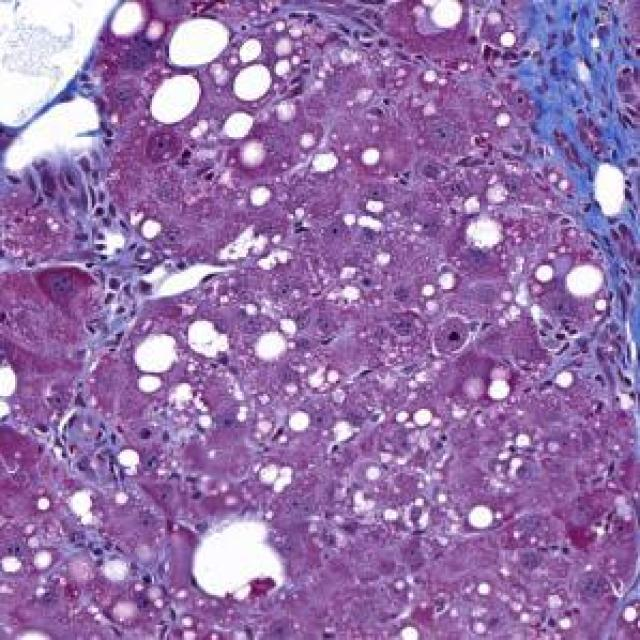fibrosis: (503, 6, 640, 227)
